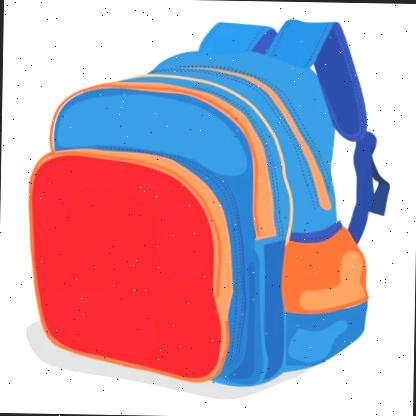bag: (22, 6, 394, 394)
